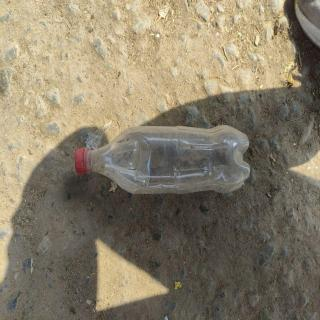Plastic-bottle: (72, 121, 253, 202)
